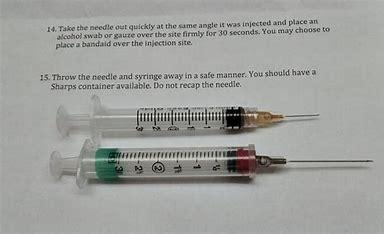Syringe: (44, 139, 376, 192), (44, 92, 334, 134)
